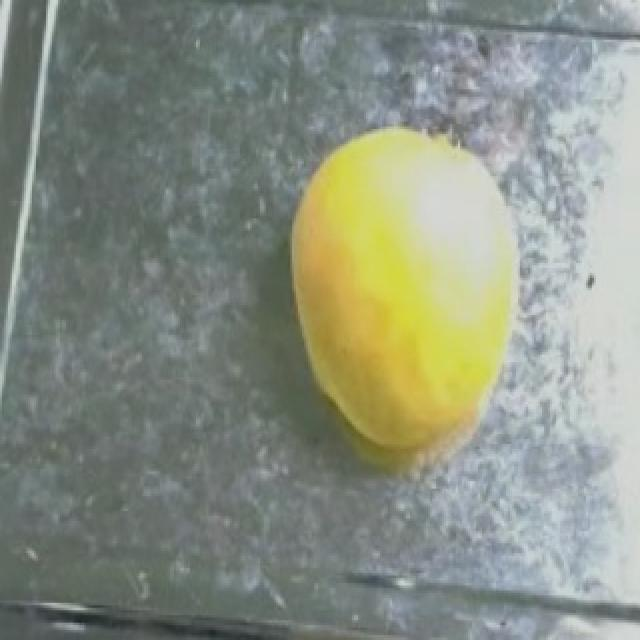fruit: (266, 99, 578, 489)
